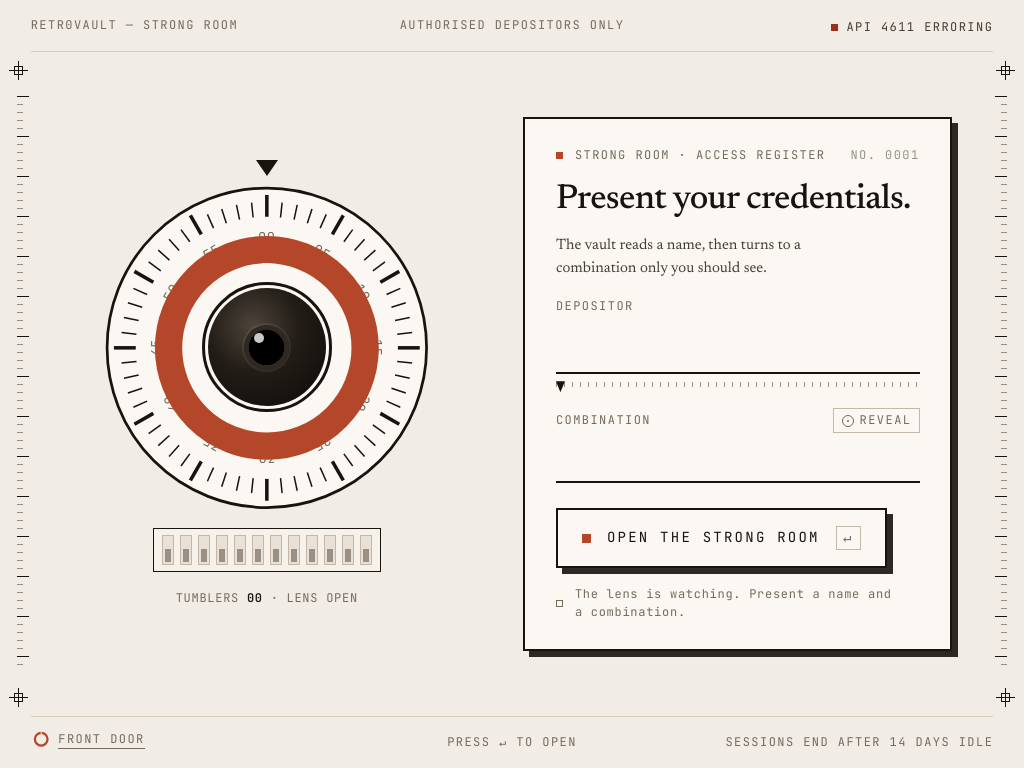
the strong room › reads the name, then shuts its lens while the combination is typed, one tumbler per character
The image size is (1024, 768).
Type "Krenuja" into the field labelled "Depositor" at (738, 349), box [556, 324, 920, 374]
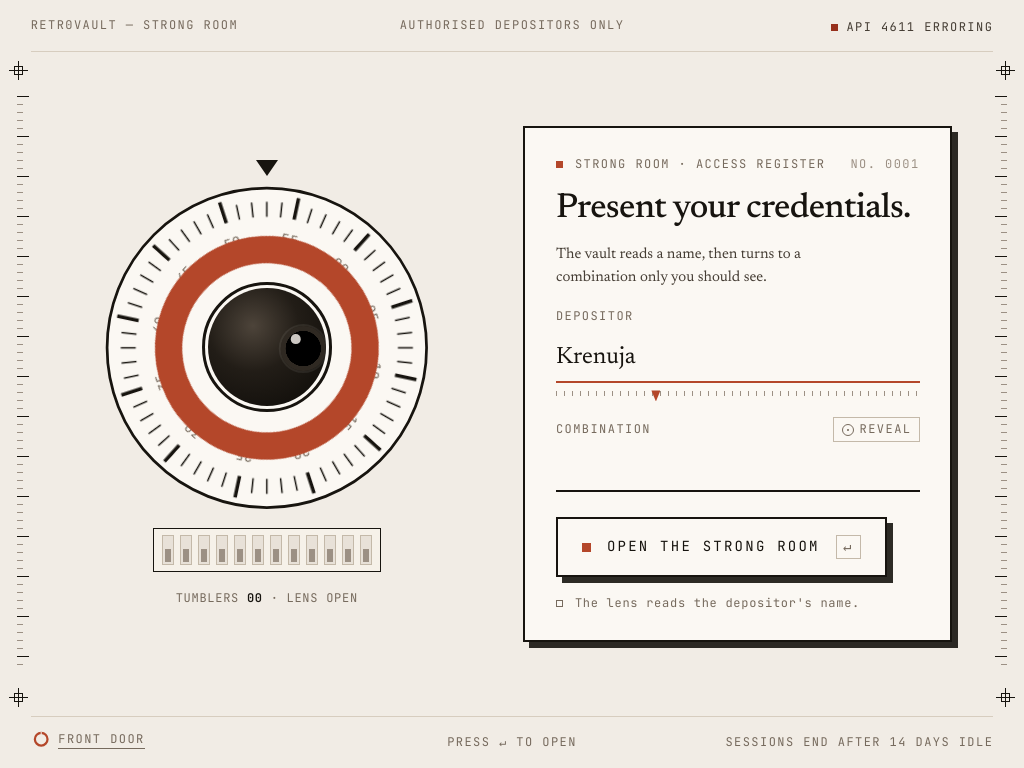
Expected: the element showing "Tumblers 00 · lens open" is shown, [176, 589, 358, 608]
Type "Retr0" into the password field labelled "Combination" at (738, 472), box [556, 451, 920, 492]
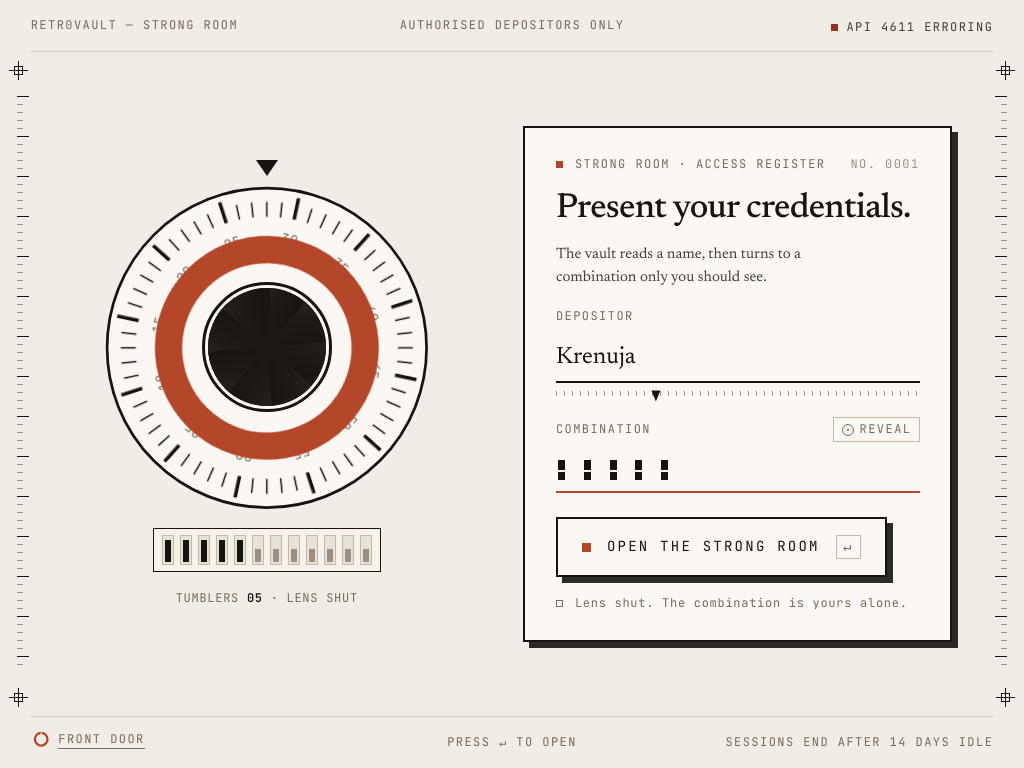
Now the element showing "Tumblers 05 · lens shut" is shown, box [176, 589, 358, 608]
Click the button "Reveal" at (876, 430), box [833, 417, 920, 443]
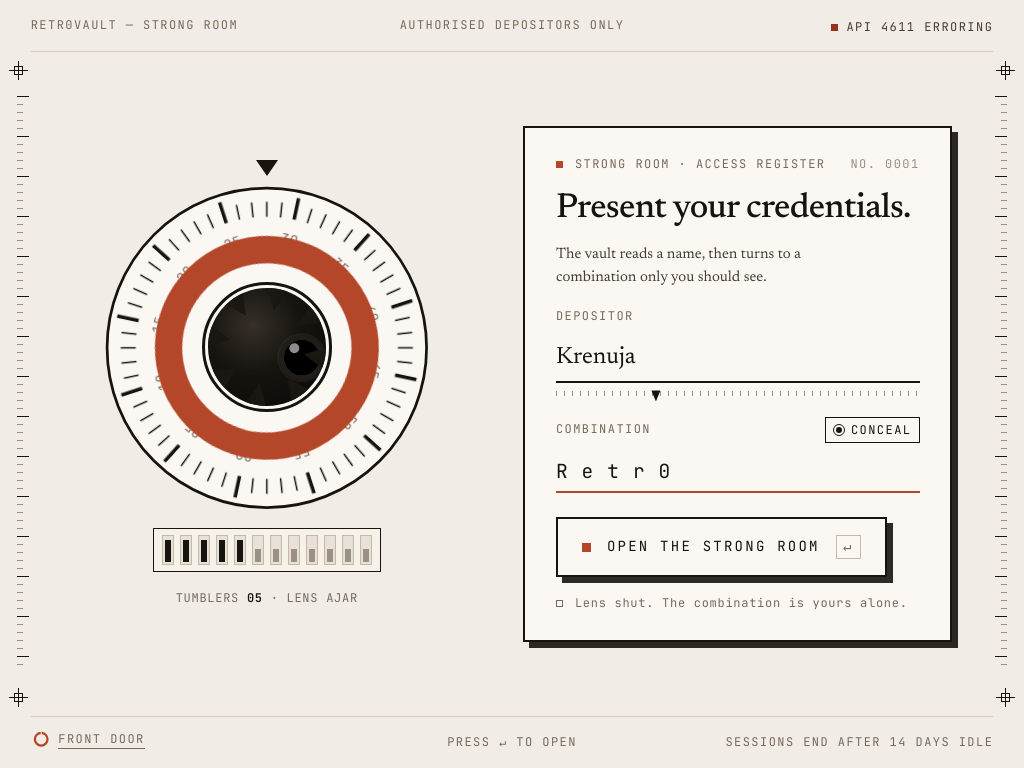
Now the field labelled "Combination" shows its text, box [556, 451, 920, 492]
Now the element showing "Tumblers 05 · lens ajar" is shown, box [176, 589, 358, 608]
